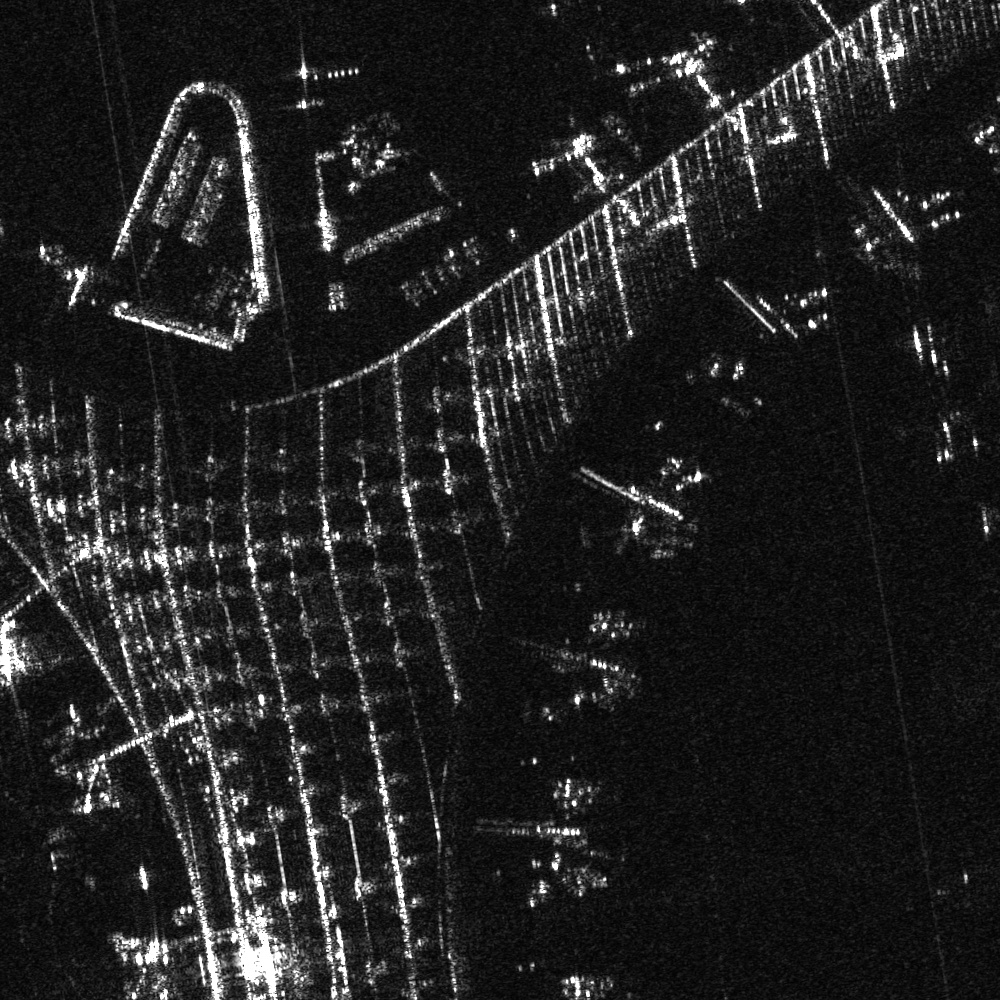Boeing787: (1, 792, 80, 923)
